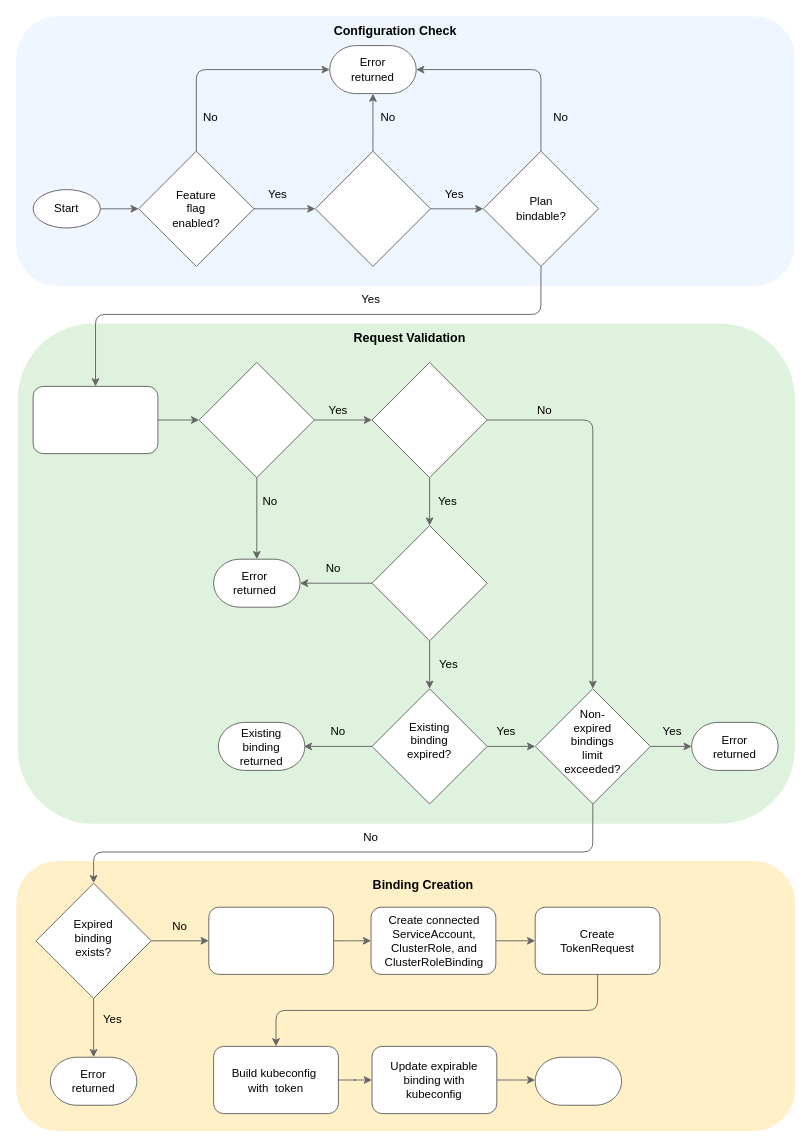
The diagram is 811 pixels wide and 1147 high, and some of its shapes have lost their labels. Each missing label, with the centre of its shape:
"Binding exists?" belongs at (429,419).
"Create binding" belongs at (271,940).
"Created binding returned" belongs at (578,1080).
"Existing binding with same parameters?" belongs at (429,583).
"Expiration within allowed range?" belongs at (256,419).
"Kyma instance exists?" belongs at (372,208).
"Unmarshal request binding and binding parameters" belongs at (95,419).
